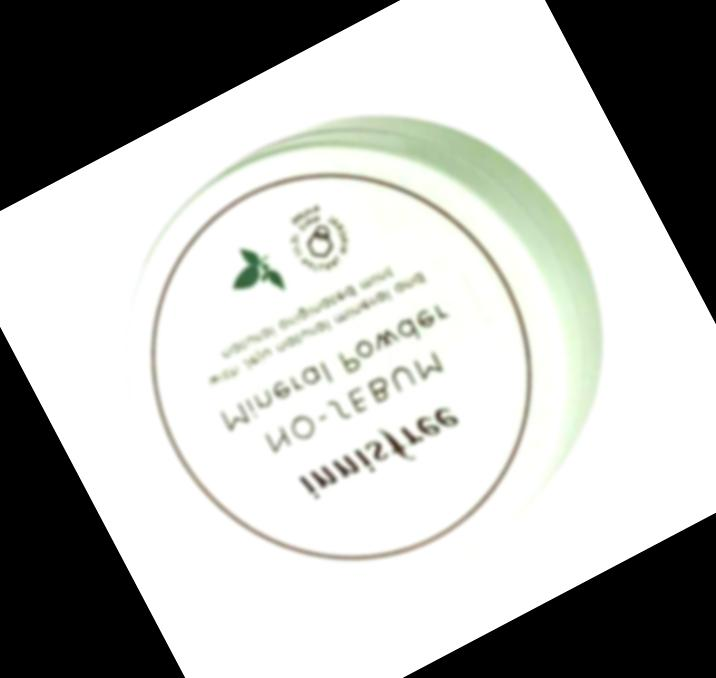cosmetic: (56, 49, 673, 657)
